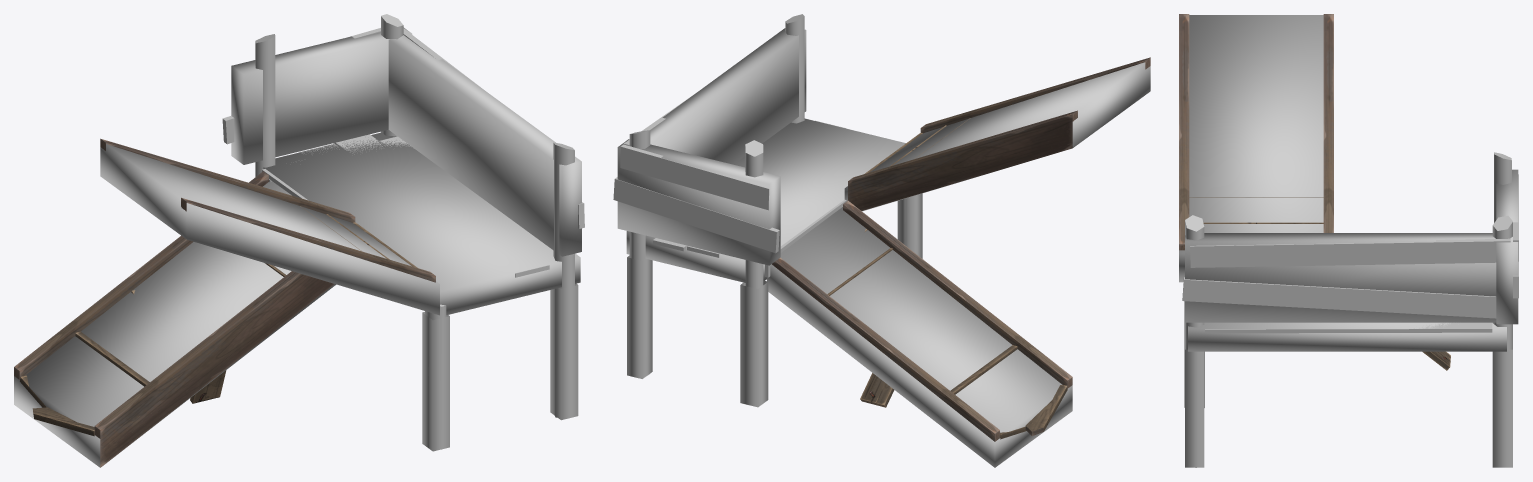
Rendered from fenceWalk_stairs01_B.FBX.
3 renders of one model, left to right at view 1: azimuth 30°, elevation 25°; view 2: azimuth 150°, elevation 25°; view 3: azimuth 270°, elevation 25°, orthographic. The views are drawn at different scales.
Visible parts, largest first — view 1: fenceWalk_stairs01_B_COL, fenceWalk_stairs01_B; view 2: fenceWalk_stairs01_B_COL, fenceWalk_stairs01_B; view 3: fenceWalk_stairs01_B_COL, fenceWalk_stairs01_B.
Boxes of the visible parts, <box> form: fenceWalk_stairs01_B_COL: <box>14,27,581,467</box>; fenceWalk_stairs01_B: <box>14,14,584,467</box>; fenceWalk_stairs01_B_COL: <box>617,28,1150,467</box>; fenceWalk_stairs01_B: <box>613,14,1150,441</box>; fenceWalk_stairs01_B_COL: <box>1179,15,1518,467</box>; fenceWalk_stairs01_B: <box>1179,14,1518,467</box>.
Size of the model in its own units: 425 by 316 by 329.
